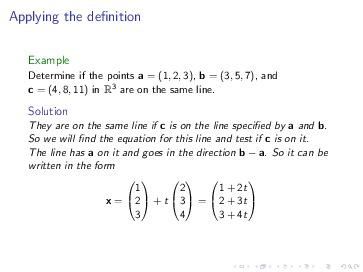paragraph: (22, 48, 337, 240)
title: (5, 6, 144, 27)
